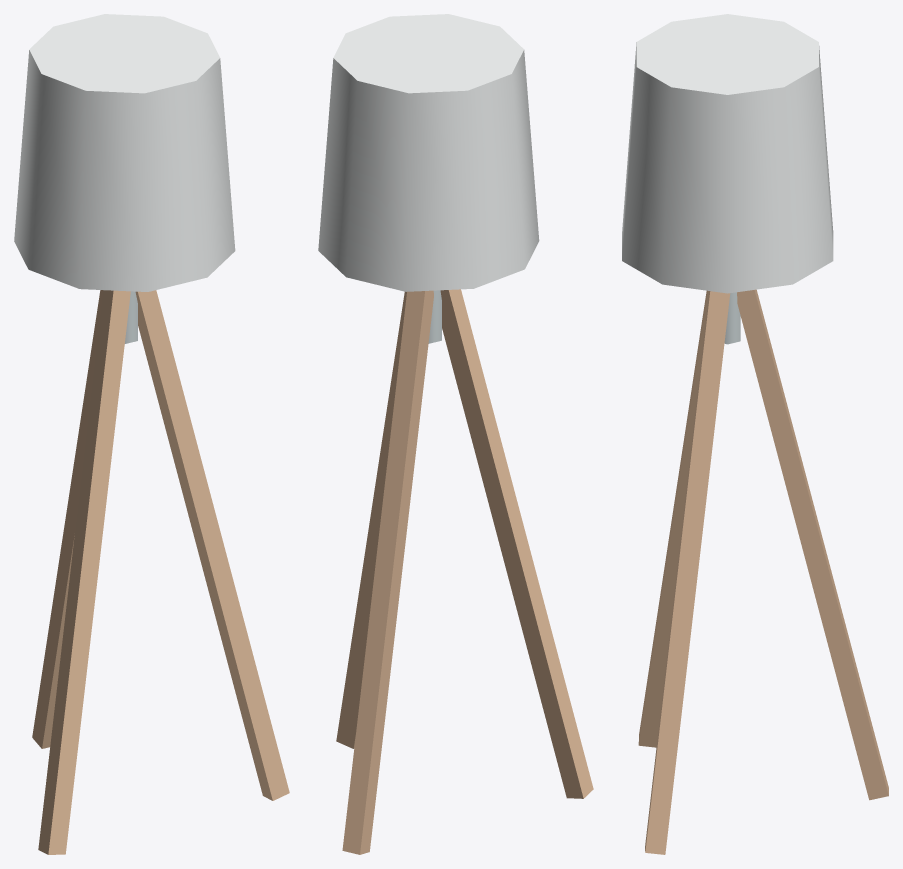
File: floorLampTripod.glb
The picture shows the model from 3 angles, left to right: view 1: azimuth 30°, elevation 25°; view 2: azimuth 150°, elevation 25°; view 3: azimuth 270°, elevation 25°; orthographic projection.
Visible parts, largest first — view 1: floorLampTripod; view 2: floorLampTripod; view 3: floorLampTripod.
Part boxes in pixels (x1,y1,x2,y2): floorLampTripod: (14,14,289,854); floorLampTripod: (318,14,593,854); floorLampTripod: (622,14,888,854).
Size of the model in its own units: 0.2793 by 0.8132 by 0.2643.
